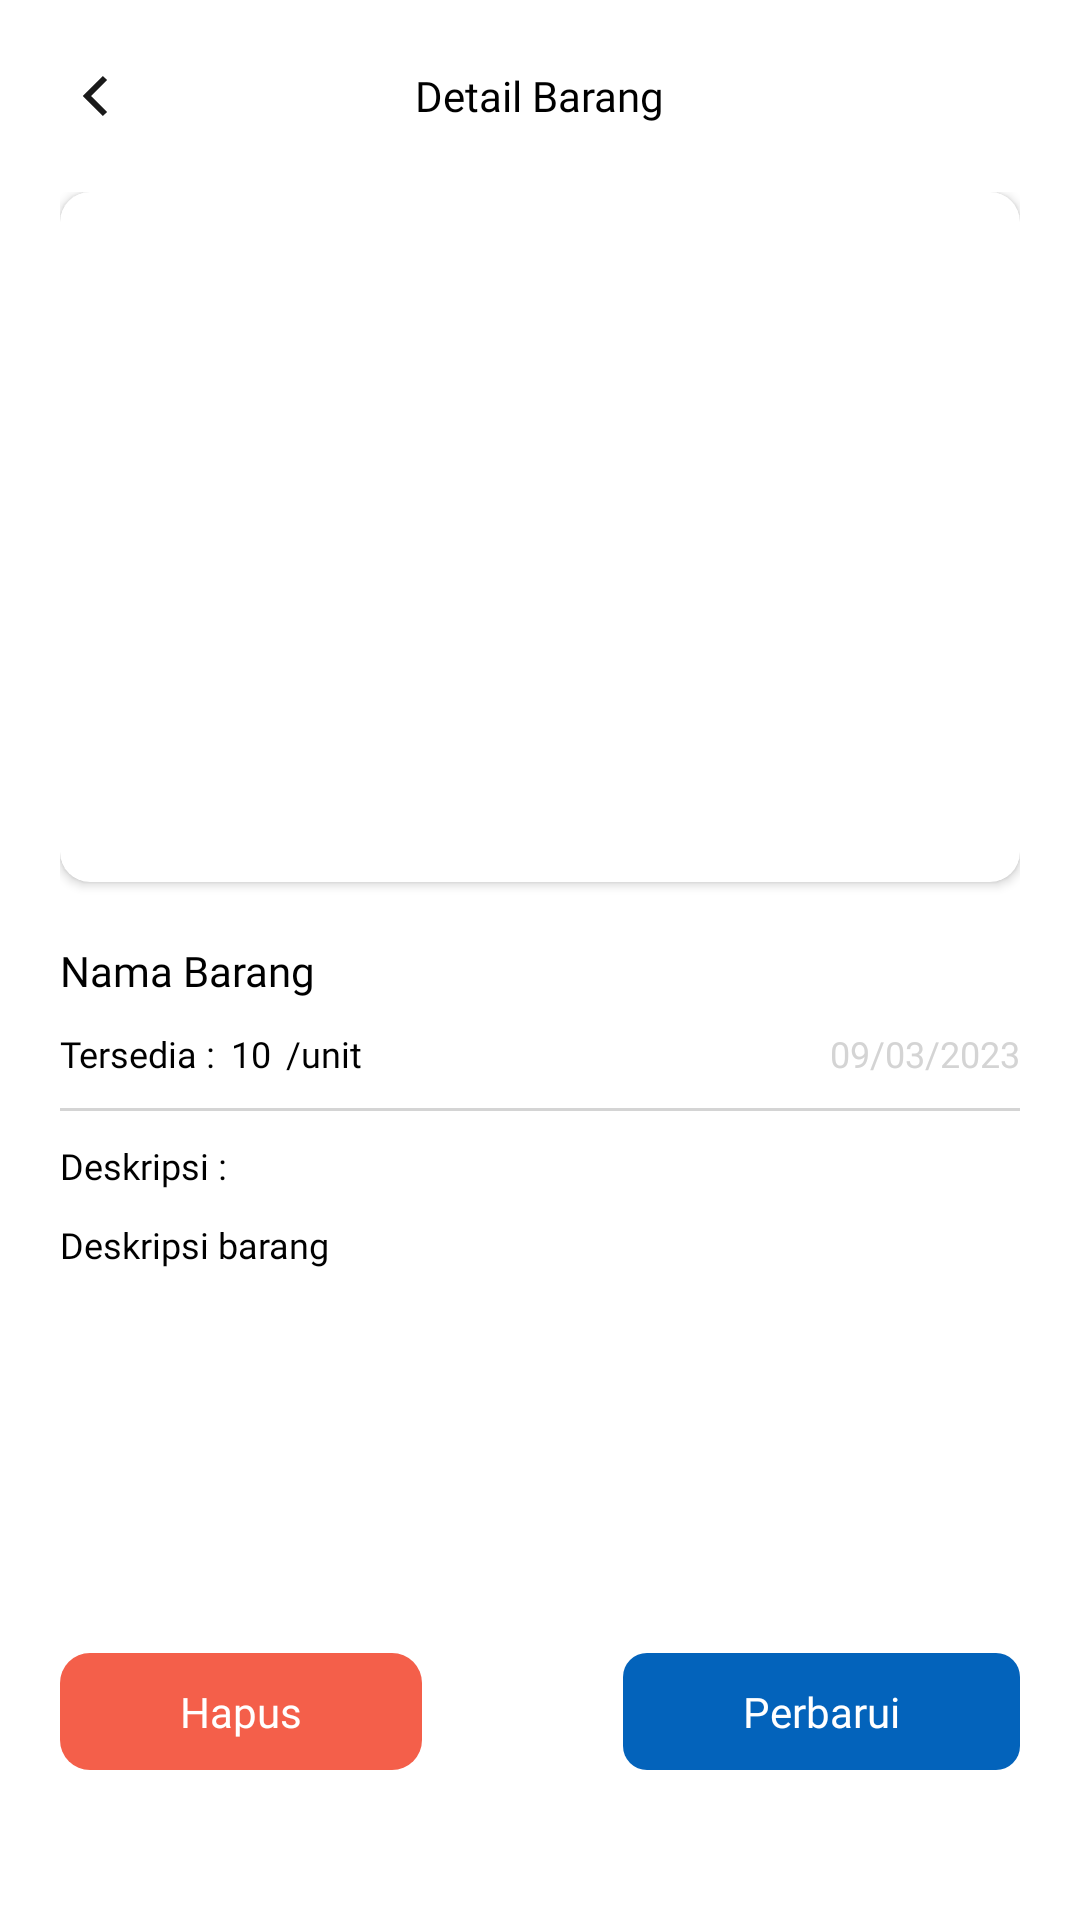

Screen size 1080×1920. Icon name, then its box in pixels as (left=x1, top=y1, right=x2, bottom=y2):
back: (left=83, top=76, right=107, bottom=116)
